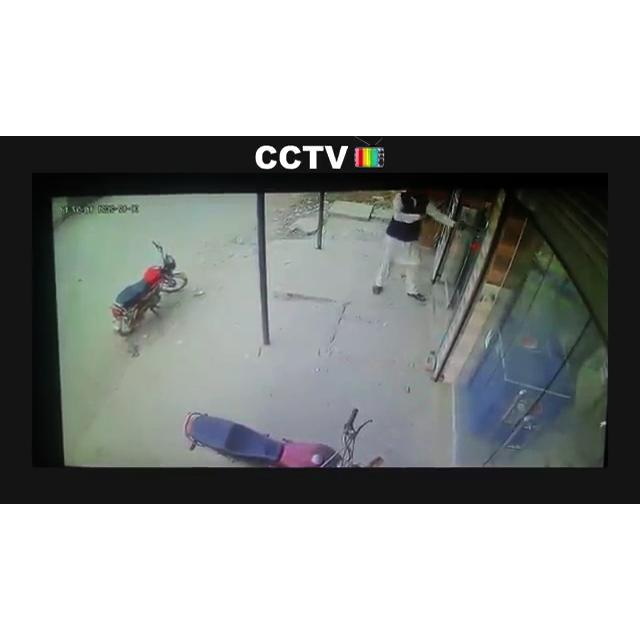criminal: (372, 189, 480, 301)
weapon: (455, 217, 479, 236)
